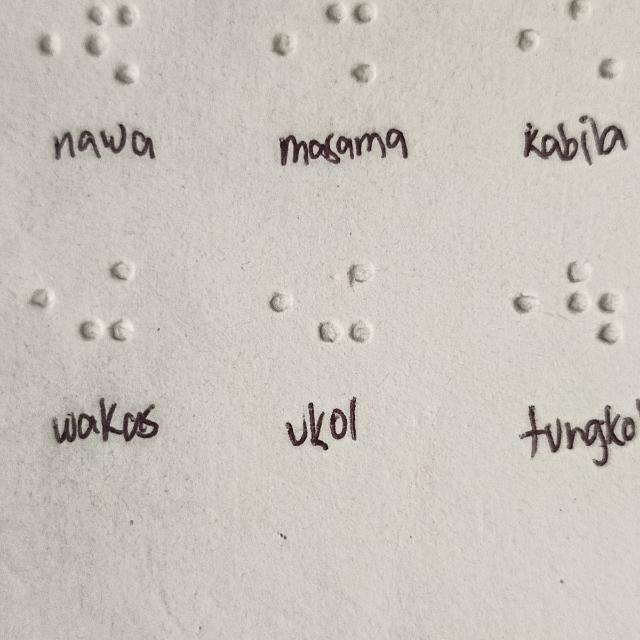dot_5: (0, 257, 52, 340), (238, 259, 290, 342), (486, 259, 538, 342), (10, 4, 62, 86), (486, 3, 538, 85), (245, 2, 296, 85)
kabila: (566, 0, 618, 83)
masama: (325, 2, 376, 85)
nawa: (86, 4, 138, 86)
tungkol: (568, 262, 620, 345)
ukol: (320, 261, 372, 344)
wakas: (83, 260, 135, 343)
